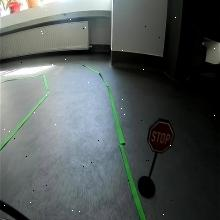stop: (148, 119, 176, 155)
